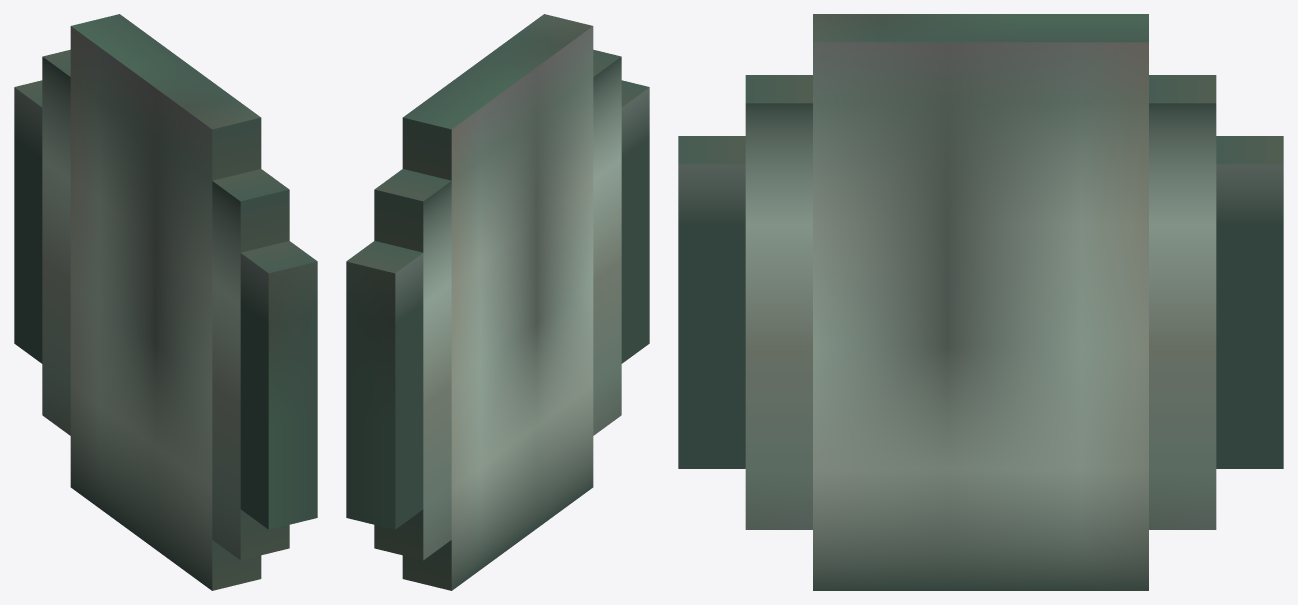
The model's file is ClockDarkGreen_00.fbx.
3 views of the same model, side by side, from view 1: azimuth 30°, elevation 25°; view 2: azimuth 150°, elevation 25°; view 3: azimuth 270°, elevation 25° (orthographic). The views are drawn at different scales.
Visible parts, largest first — view 1: ClockDarkGreen_00; view 2: ClockDarkGreen_00; view 3: ClockDarkGreen_00.
Part boxes in pixels (x1=…): ClockDarkGreen_00: x1=14, y1=14, x2=317, y2=590; ClockDarkGreen_00: x1=346, y1=14, x2=649, y2=590; ClockDarkGreen_00: x1=678, y1=14, x2=1283, y2=590.
Bounding box in the file's own units: 5 × 45 × 45.
Materials: 1 (1 with a texture image).
